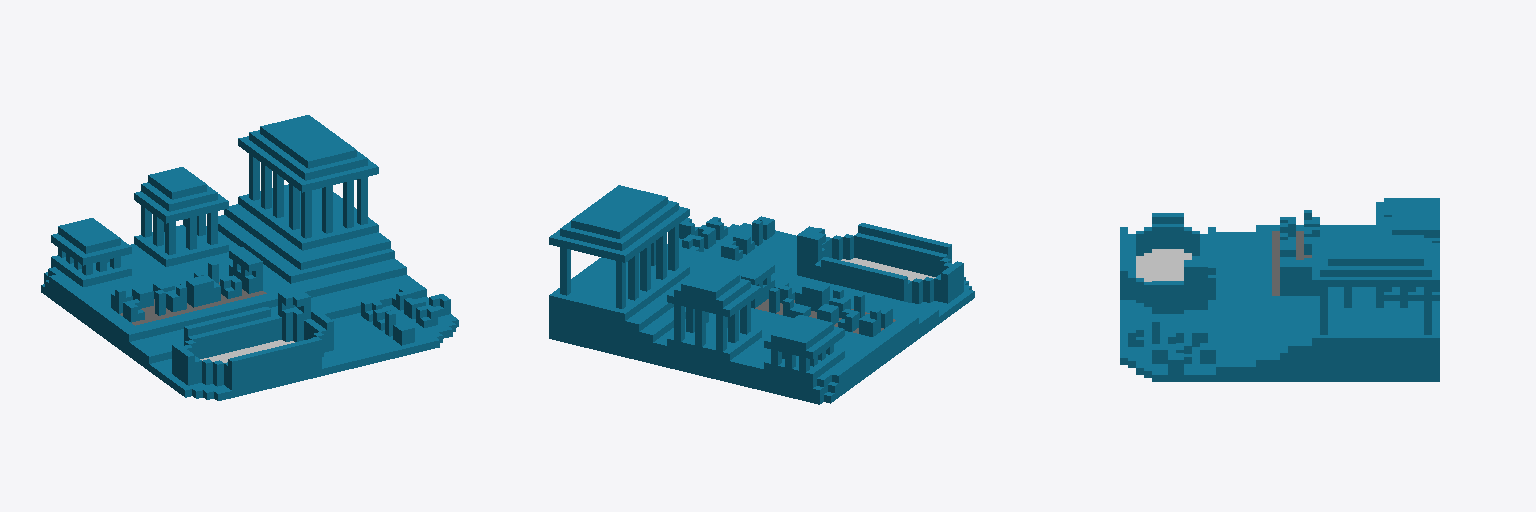
3 renders of one model, left to right at view 1: azimuth 30°, elevation 25°; view 2: azimuth 150°, elevation 25°; view 3: azimuth 270°, elevation 25°, orthographic.
Visible parts, largest first — view 1: object 1; view 2: object 1; view 3: object 1.
Boxes of the visible parts, <box> form: object 1: <box>41,115,458,400</box>; object 1: <box>549,185,974,404</box>; object 1: <box>1120,198,1439,381</box>.
Size of the model in its own units: 4 by 1.6 by 4.
1 materials, 1 textured.